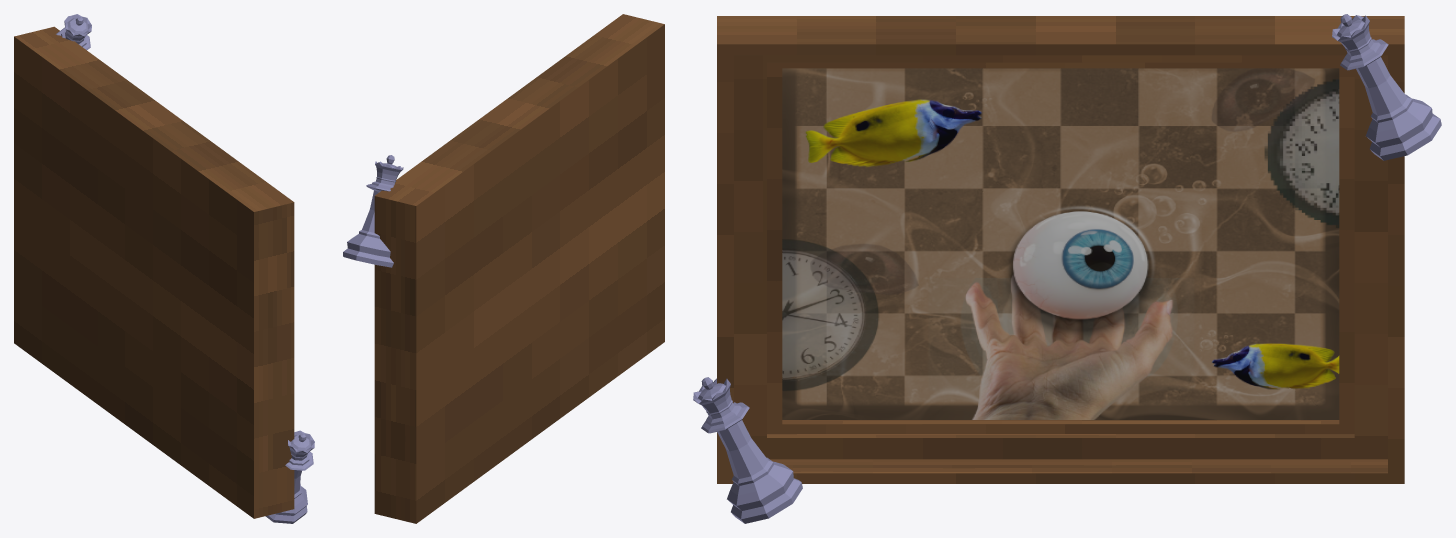
Rendered from QUADRO_PEIXE_LARANJA_2.fbx.
3 views of the same model, side by side, from view 1: azimuth 30°, elevation 25°; view 2: azimuth 150°, elevation 25°; view 3: azimuth 270°, elevation 25° (orthographic). The views are drawn at different scales.
Parts seen in each view (by area): view 1: QUADRO_PEIXE_LARANJA.001, QUADRO_PEIXE_LARANJA; view 2: QUADRO_PEIXE_LARANJA.001, QUADRO_PEIXE_LARANJA; view 3: QUADRO_PEIXE_LARANJA.001, QUADRO_PEIXE_LARANJA.
Boxes of the visible parts, x1,y1,x2,y2 form: QUADRO_PEIXE_LARANJA.001: [14, 26, 294, 518]; QUADRO_PEIXE_LARANJA: [56, 14, 314, 523]; QUADRO_PEIXE_LARANJA.001: [374, 14, 664, 523]; QUADRO_PEIXE_LARANJA: [343, 155, 403, 267]; QUADRO_PEIXE_LARANJA.001: [717, 16, 1404, 483]; QUADRO_PEIXE_LARANJA: [693, 14, 1441, 523].
Bounding box in the file's own units: 33.11 × 161 × 218.
